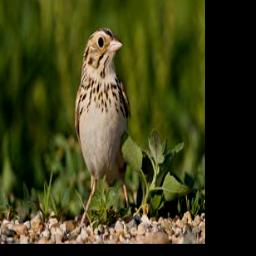Sparrow: (72, 23, 132, 235)
